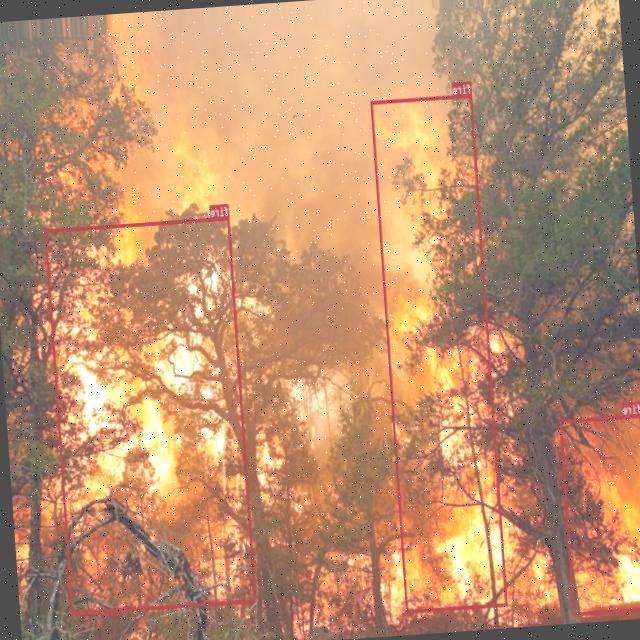fire: (44, 216, 256, 614), (370, 93, 508, 612), (559, 413, 640, 614)
